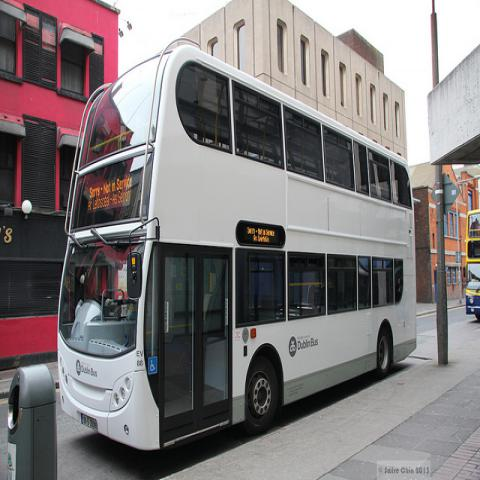bus: (55, 35, 417, 452), (466, 210, 478, 326)
